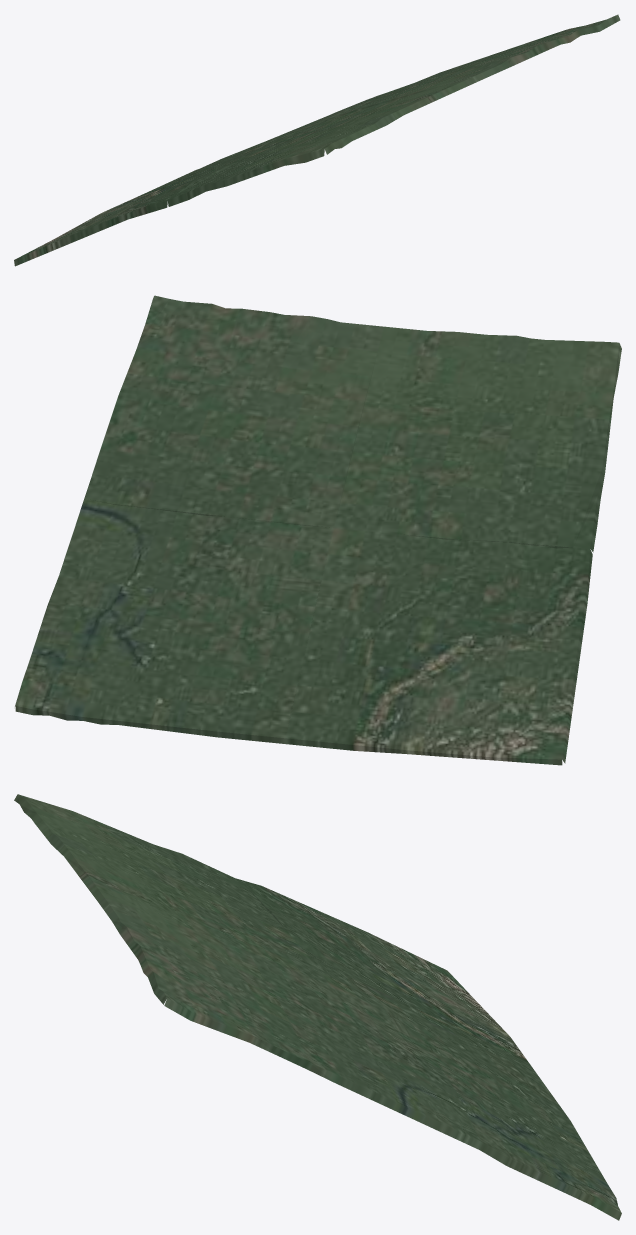
3 views of the same model, one above another, from view 1: azimuth 30°, elevation 25°; view 2: azimuth 150°, elevation 25°; view 3: azimuth 270°, elevation 25° (orthographic). The views are drawn at different scales.
Size of the model in its own units: 778843 by 336687 by 706155.
1 material, 1 textured.
